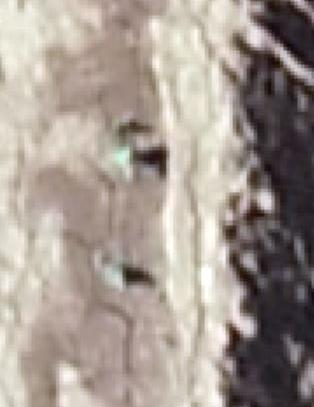cotton: (115, 146, 135, 165), (108, 264, 124, 286)
